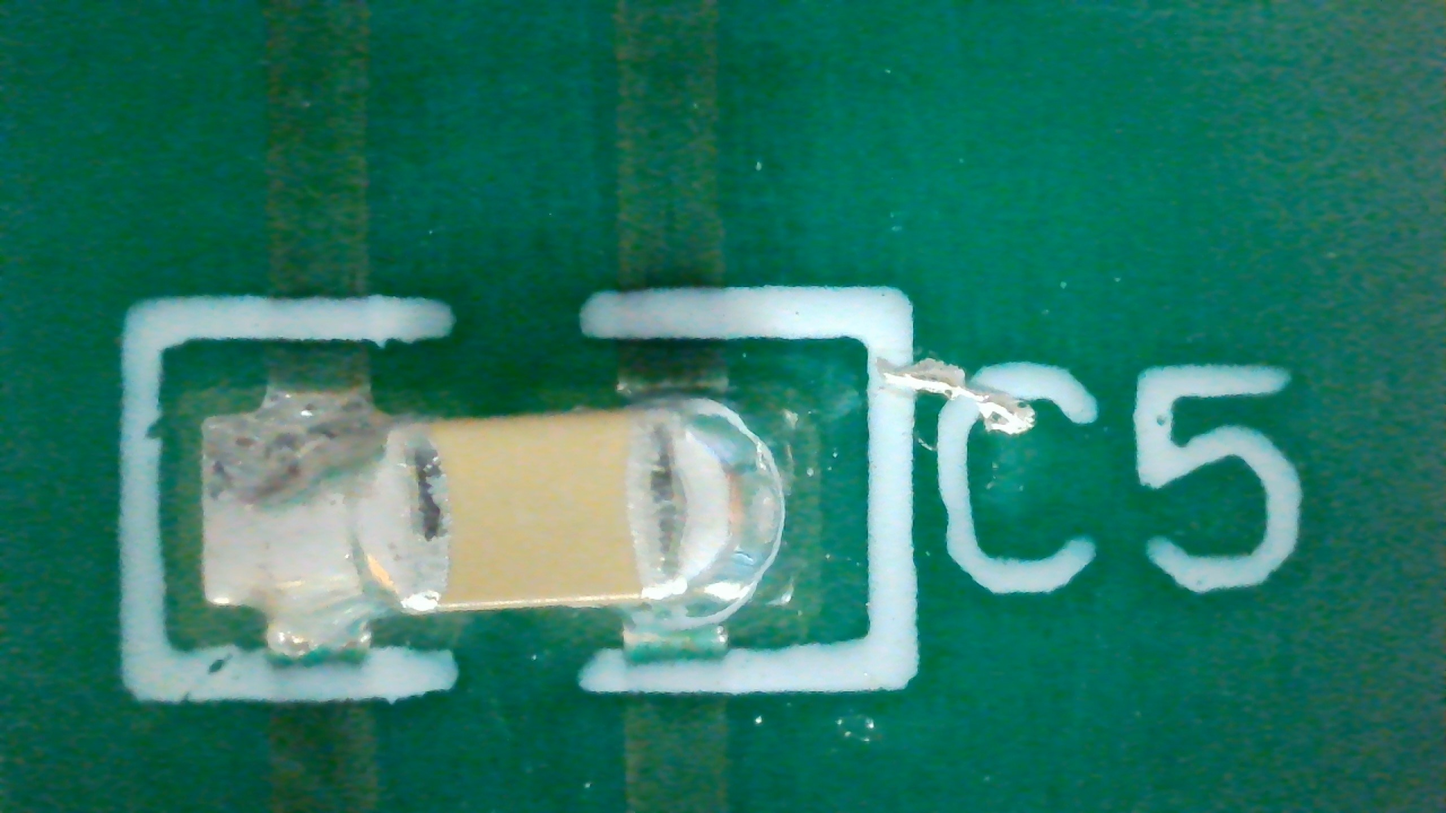OK: (208, 385, 784, 663)
